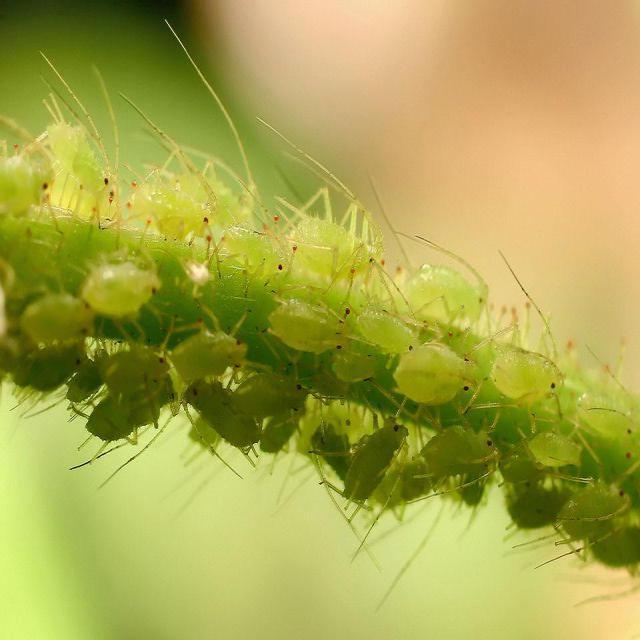aphid: (370, 310, 492, 442), (285, 199, 393, 305), (487, 331, 580, 436), (66, 239, 170, 330), (128, 162, 218, 267), (264, 284, 359, 375), (396, 260, 506, 337), (340, 418, 416, 510), (173, 319, 253, 398), (91, 338, 169, 402), (526, 426, 589, 474)
